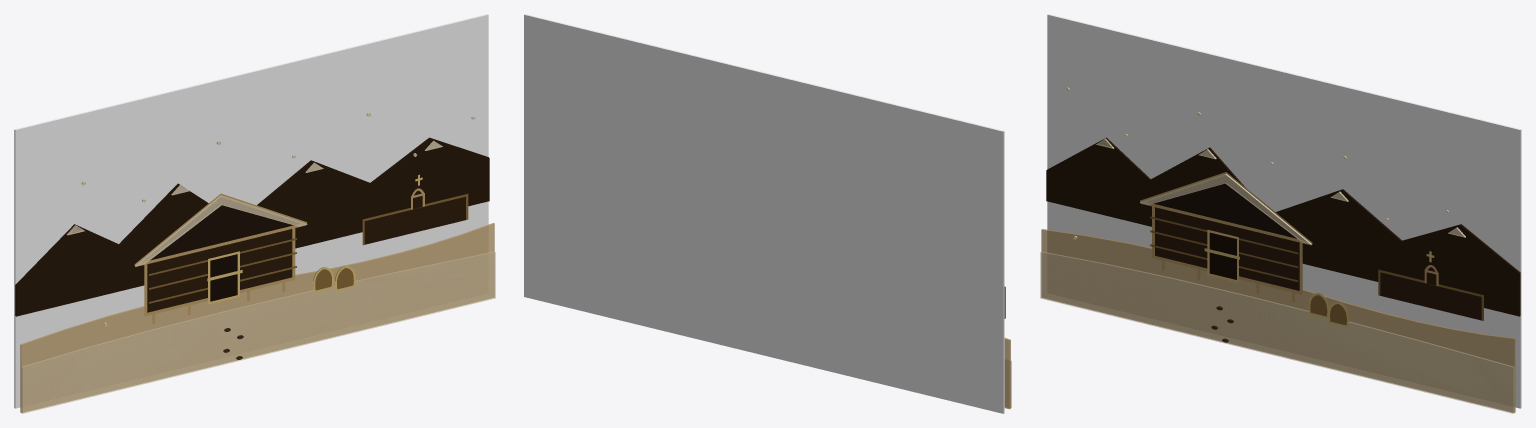
Rendered from loc-ambar-obiteli.glb.
3 renders of one model, left to right at view 1: azimuth 30°, elevation 25°; view 2: azimuth 150°, elevation 25°; view 3: azimuth 330°, elevation 25°, orthographic.
Visible parts, largest first — view 1: loc-ambar-obiteli; view 2: loc-ambar-obiteli; view 3: loc-ambar-obiteli.
Boxes of the visible parts, left/top/right/bottom form: loc-ambar-obiteli: left=14, top=14, right=495, bottom=413; loc-ambar-obiteli: left=524, top=14, right=1011, bottom=413; loc-ambar-obiteli: left=1040, top=14, right=1521, bottom=413.
Size of the model in its own units: 5.33 by 3 by 0.64.
